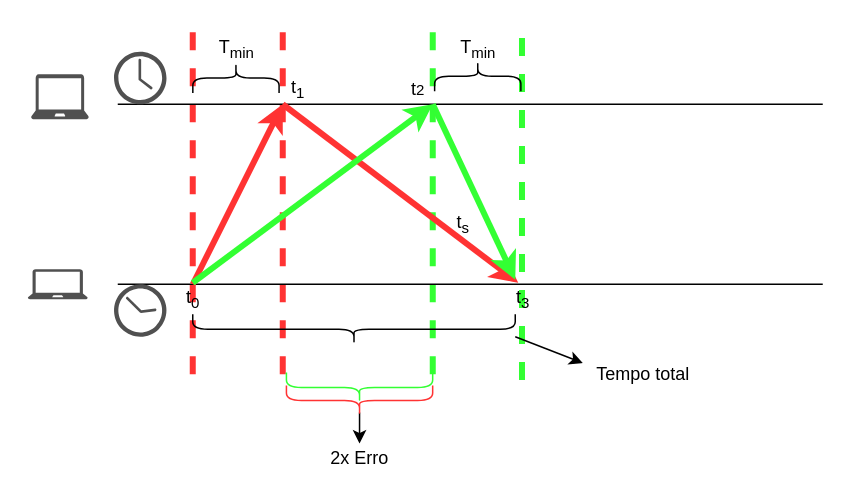
Image size: 851x500. Some labels were removed from this diagram. The shapes that lost their labels are listed below. From the top down, each one's box as (x1, y1, x2, y2) in pixels, then its label:
(30, 74, 88, 118): Servidor
(27, 268, 87, 298): Cliente
